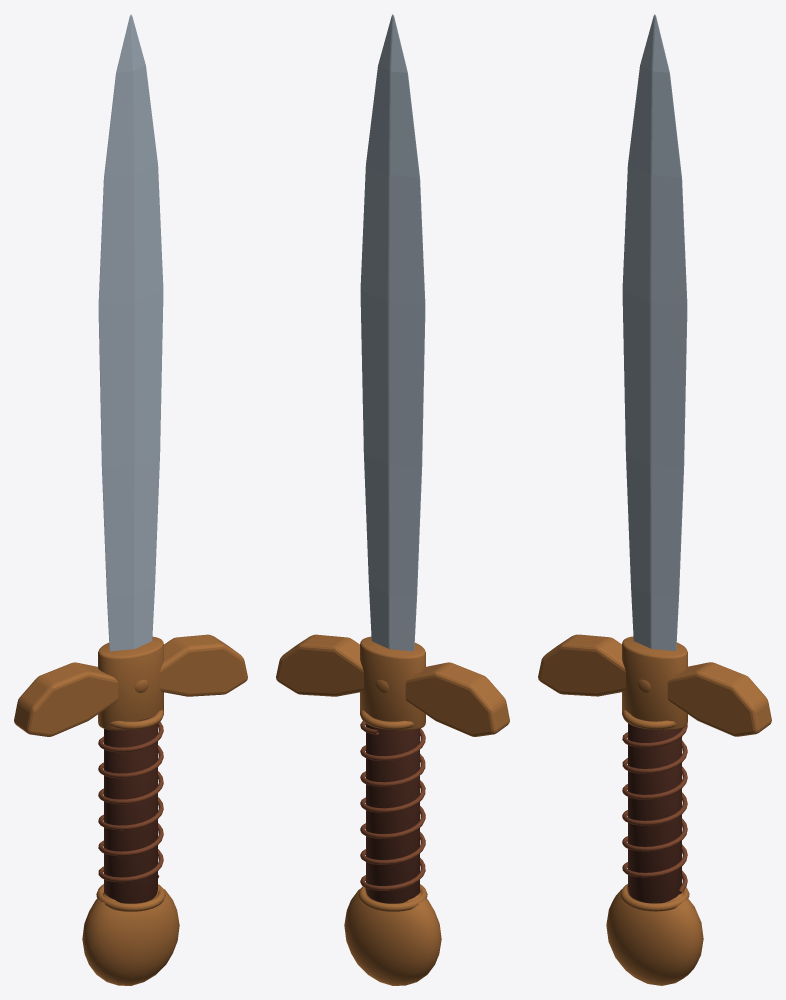
The model's file is xiphos_main.glb.
The picture shows the model from 3 angles, left to right: view 1: azimuth 30°, elevation 25°; view 2: azimuth 150°, elevation 25°; view 3: azimuth 330°, elevation 25°; orthographic projection.
Visible parts, largest first — view 1: SM_Xiphos_Main; view 2: SM_Xiphos_Main; view 3: SM_Xiphos_Main.
Boxes of the visible parts, <box> form: SM_Xiphos_Main: <box>14,14,247,985</box>; SM_Xiphos_Main: <box>276,14,509,985</box>; SM_Xiphos_Main: <box>538,14,771,985</box>.
Bounding box in the file's own units: 0.3276 × 1.37 × 0.089.
